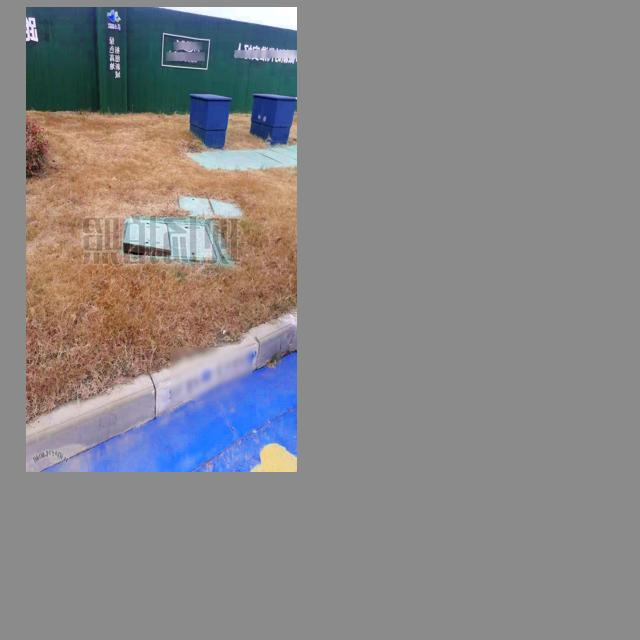uncovered: (121, 214, 220, 261)
